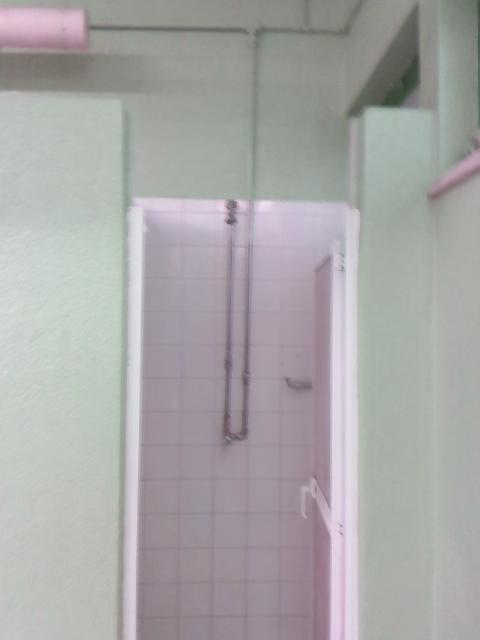open_door: (120, 196, 357, 638)
